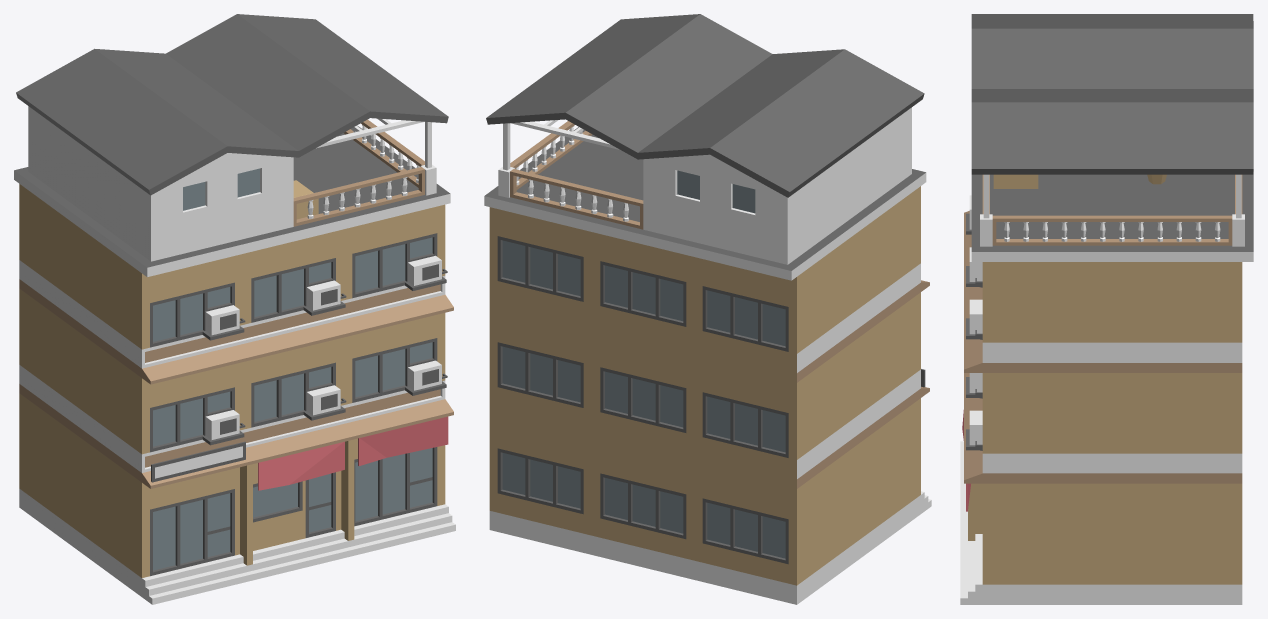
File: big-house4-col.glb
The picture shows the model from 3 angles, left to right: view 1: azimuth 30°, elevation 25°; view 2: azimuth 150°, elevation 25°; view 3: azimuth 270°, elevation 25°; orthographic projection. The views are drawn at different scales.
Parts seen in each view (by area): view 1: building_street_india-col; view 2: building_street_india-col; view 3: building_street_india-col.
Part boxes in pixels (x1,y1,x2,y2): building_street_india-col: [14, 14, 455, 604]; building_street_india-col: [484, 14, 931, 604]; building_street_india-col: [960, 14, 1253, 604].
Bounding box in the file's own units: 10 × 13.71 × 7.9.
